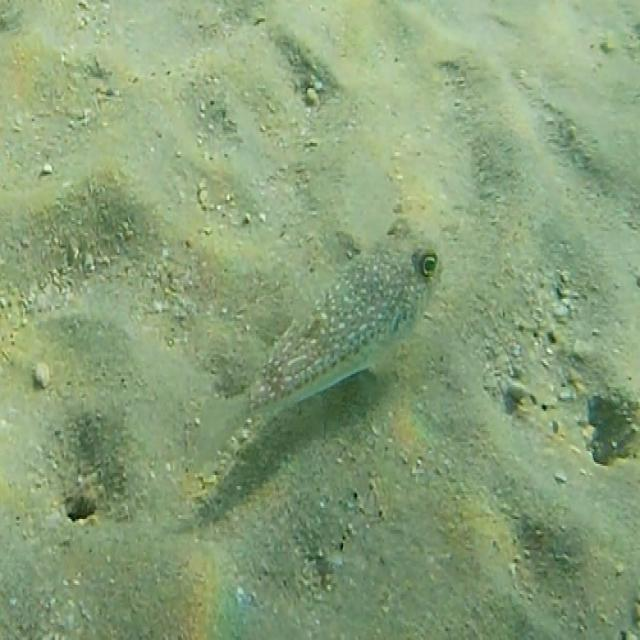Balik: (213, 239, 439, 443)
